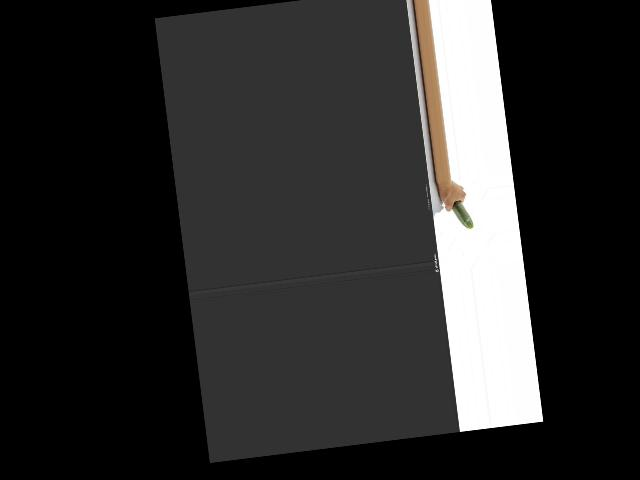cucumber: (451, 198, 473, 230)
